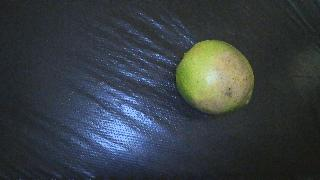DESECHO: (175, 40, 254, 114)
